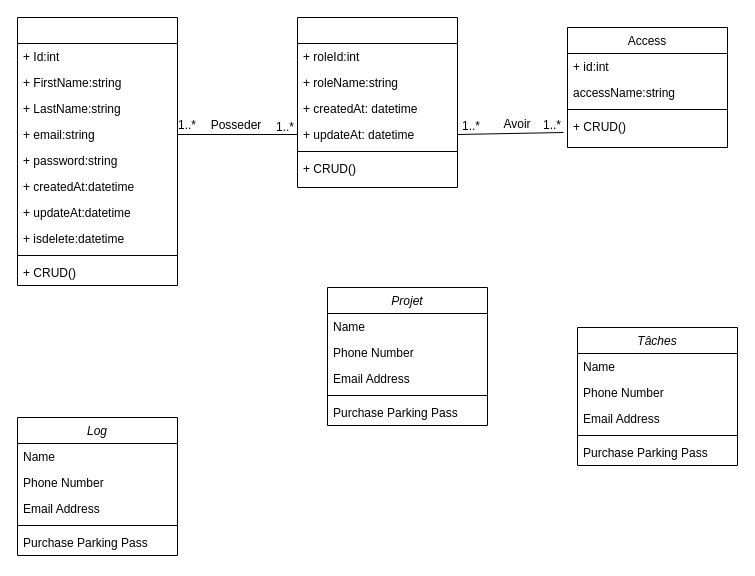
Image size: 755x576. Some labels were removed from this diagram. The box of each missing label's shape, as (x1, y1, x2, y2) in pixels:
Roles: (296, 16, 458, 188)
Users: (16, 16, 178, 286)
